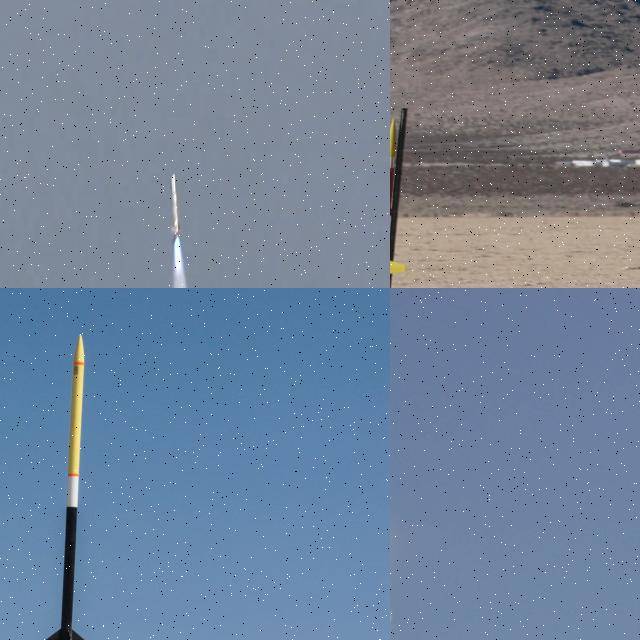Rocket: (43, 333, 88, 640), (390, 117, 407, 279), (172, 171, 182, 244)
